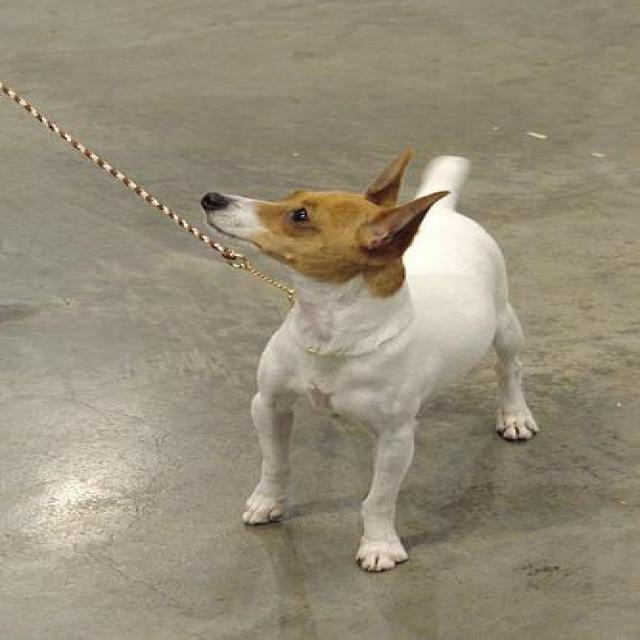toy_terrier: (201, 154, 537, 572)
